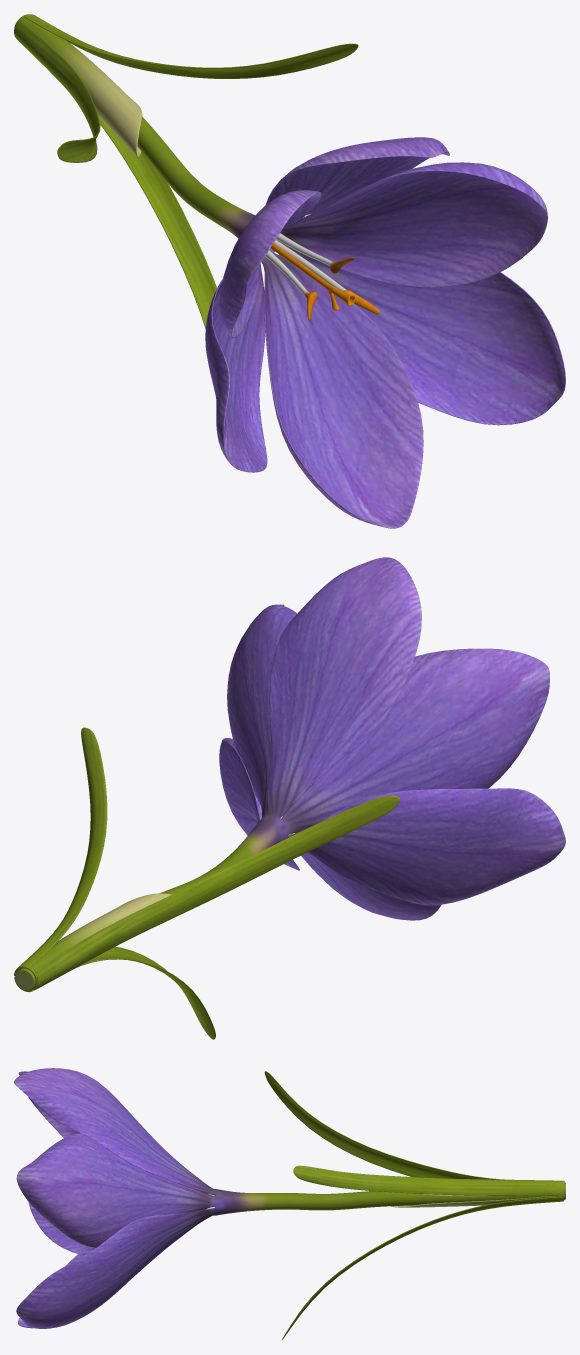
The model's file is Crocus.glb.
The picture shows the model from 3 angles, top to bottom: view 1: azimuth 30°, elevation 25°; view 2: azimuth 150°, elevation 25°; view 3: azimuth 270°, elevation 25°; orthographic projection. The views are drawn at different scales.
Parts seen in each view (by area): view 1: Node1; view 2: Node1; view 3: Node1.
Part boxes in pixels (x1,y1,x2,y2): Node1: (14, 14, 565, 528); Node1: (14, 557, 565, 1039); Node1: (14, 1068, 565, 1340).
Size of the model in its own units: 17.62 by 18.61 by 35.48.
Materials: 1 (1 with a texture image).
